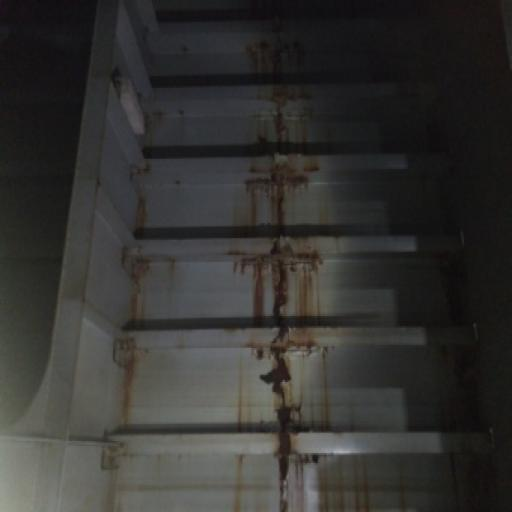Detect-rust-on-metal-surfaces: (226, 13, 415, 510), (123, 174, 158, 458)
